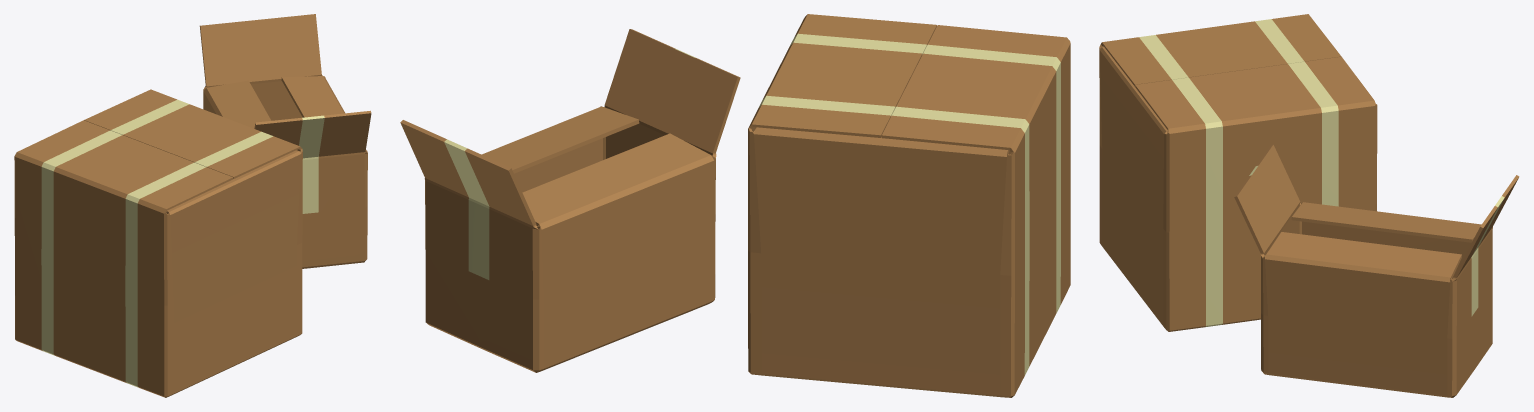
Rendered from boxes.fbx.
The picture shows the model from 3 angles, left to right: view 1: azimuth 30°, elevation 25°; view 2: azimuth 150°, elevation 25°; view 3: azimuth 270°, elevation 25°; orthographic projection. The views are drawn at different scales.
Parts seen in each view (by area): view 1: Cardboard.019_Cube.001, Cardboard.014_Cube.021; view 2: Cardboard.019_Cube.001, Cardboard.014_Cube.021; view 3: Cardboard.019_Cube.001, Cardboard.014_Cube.021.
Boxes of the visible parts, <box> form: Cardboard.019_Cube.001: <box>14,89,302,397</box>; Cardboard.014_Cube.021: <box>199,14,371,268</box>; Cardboard.019_Cube.001: <box>748,14,1070,397</box>; Cardboard.014_Cube.021: <box>400,29,740,372</box>; Cardboard.019_Cube.001: <box>1099,14,1377,331</box>; Cardboard.014_Cube.021: <box>1234,144,1519,397</box>.
Size of the model in its own units: 136 by 64.4 by 120.
